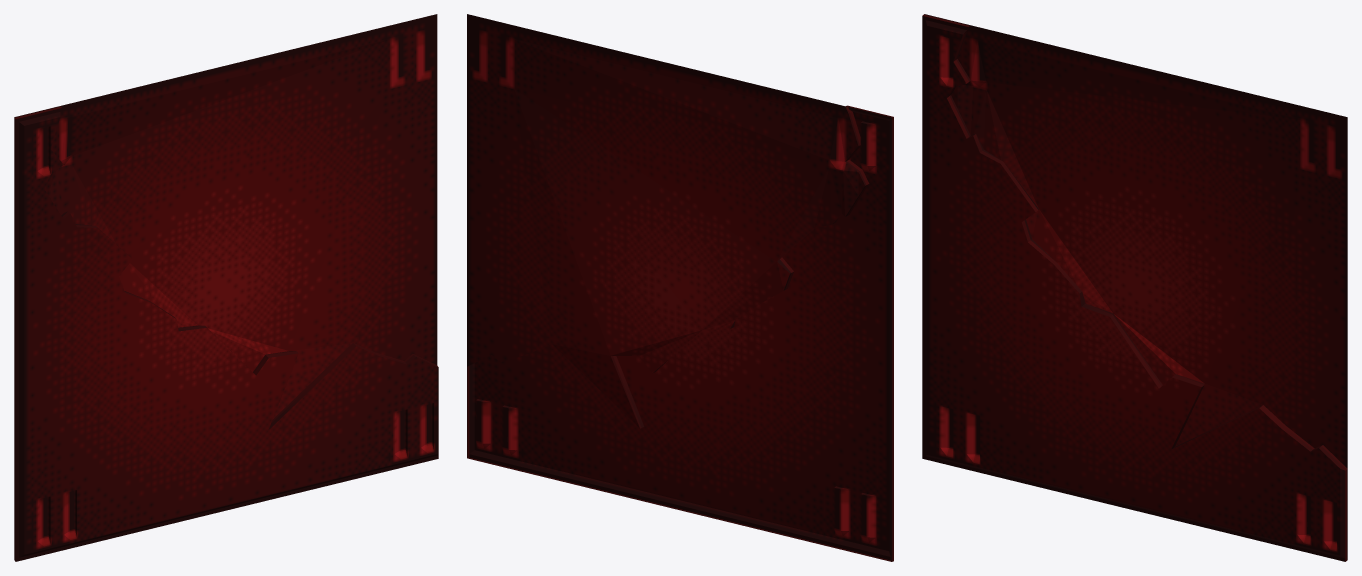
Rendered from sci2_4.fbx.
3 views of the same model, side by side, from view 1: azimuth 30°, elevation 25°; view 2: azimuth 150°, elevation 25°; view 3: azimuth 330°, elevation 25° (orthographic).
Visible parts, largest first — view 1: sci1_6_mesh; view 2: sci1_6_mesh; view 3: sci1_6_mesh.
Part boxes in pixels (box(x1,y1,x2,y2)): sci1_6_mesh: box(14, 14, 438, 561); sci1_6_mesh: box(467, 14, 893, 561); sci1_6_mesh: box(922, 14, 1347, 561).
Bounding box in the file's own units: 256 × 256 × 6.44.
